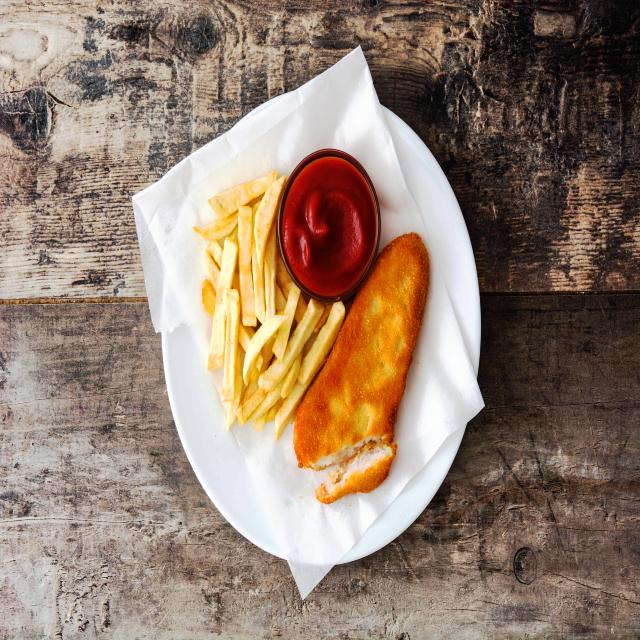french fries: (199, 173, 346, 433)
ketchup: (279, 150, 381, 302)
